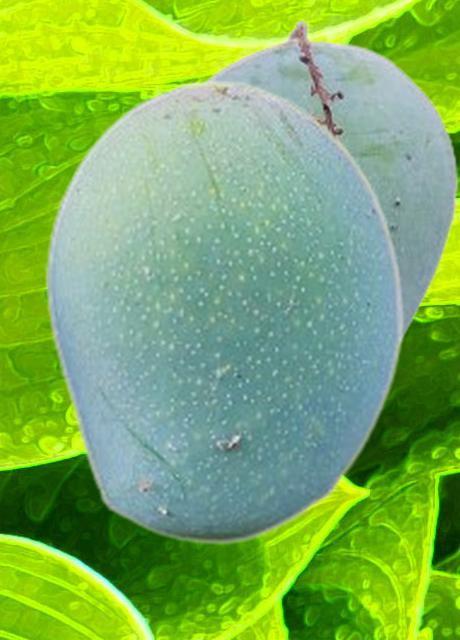green_mango: (43, 78, 404, 545), (201, 19, 458, 347)
